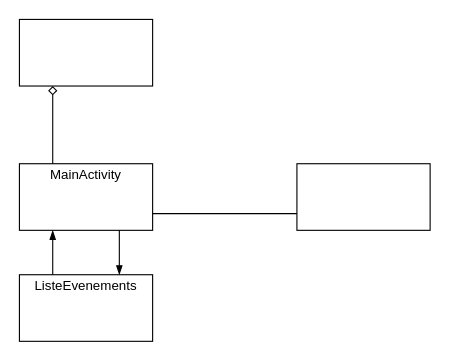
Image size: 450x361. Some labels were removed from this diagram. Here are the shapes that lost their labels. From the top down, the centre of each, then its label:
point 85,52: Evenement
point 363,196: activity_main.xml
